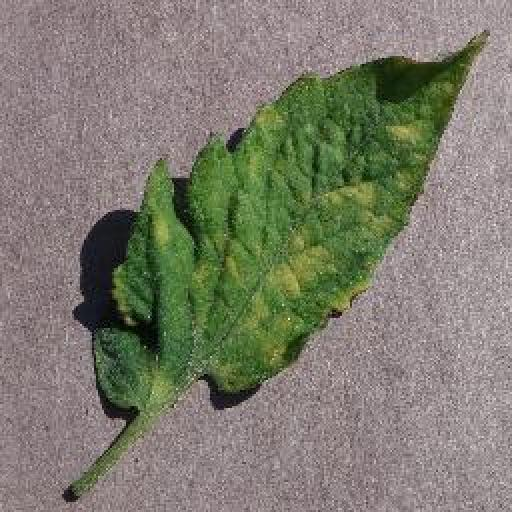disease_tomato: (96, 30, 490, 410)
